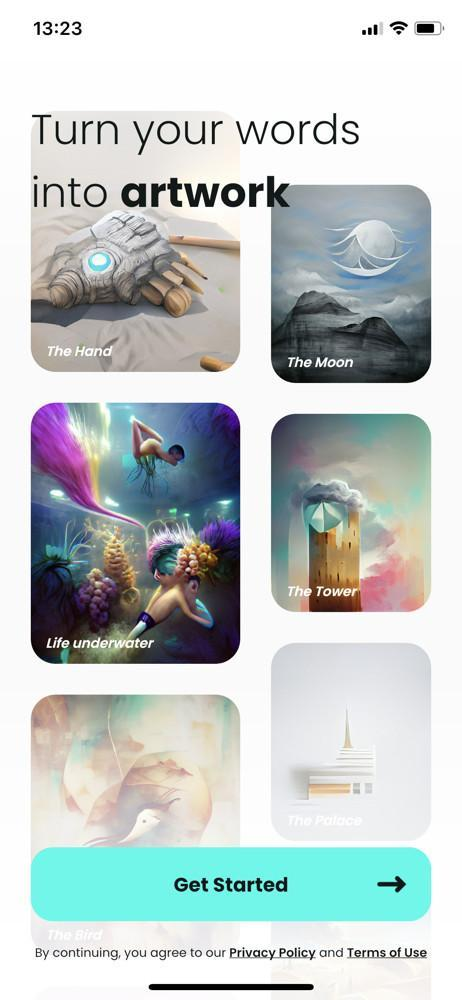button: (34, 847, 433, 922)
